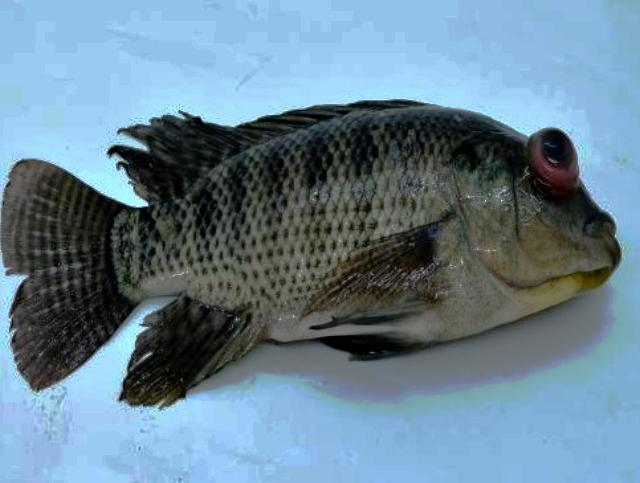Streptococcus: (1, 101, 620, 406)
